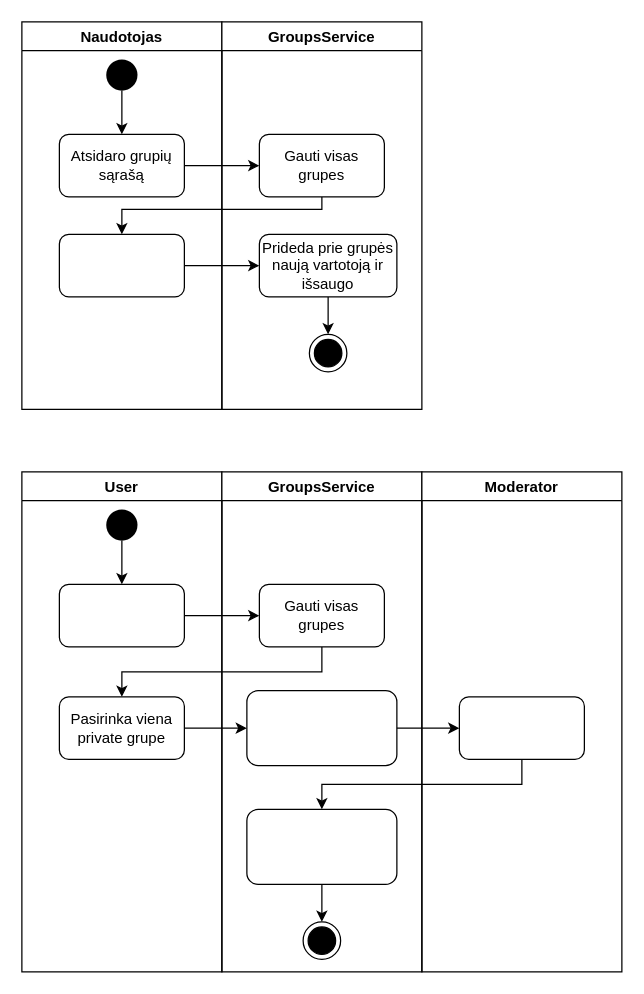
The diagram is 644 pixels wide and 994 high, and some of its shapes have lost their labels. The shapes that lost their labels are listed below. From the top down, each one's centre as x and y in pixels, then its label:
the point at 121,265: Pasirenka vieną viešą grupę
the point at 121,615: Atidaro grupiu sarasa
the point at 321,727: Prideda nepatvirtinta naudotoja siuncia patvirtinimo uzklausa
the point at 521,727: Patvirtina vartotojo uzklausa
the point at 321,846: Issaugoja naudotoja kaip grupes nari ir siuncia pranesima
